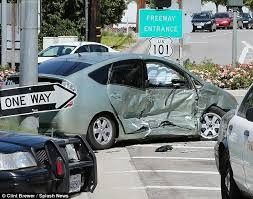Dent: (107, 84, 203, 132)
